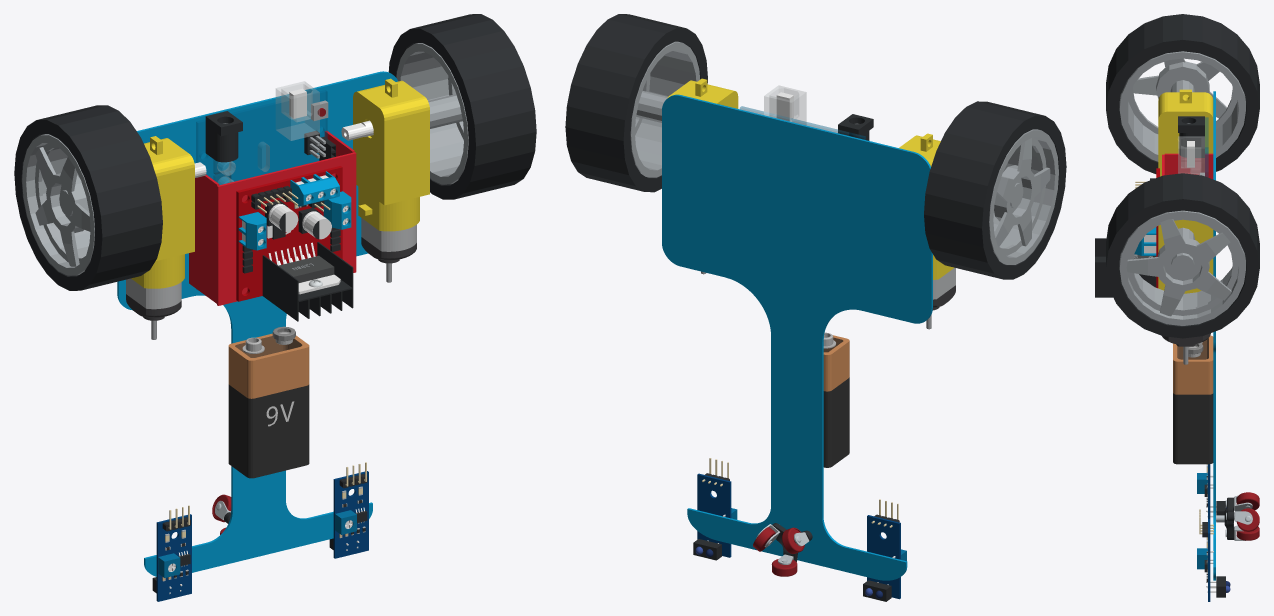
Rendered from tinker.obj.
3 renders of one model, left to right at view 1: azimuth 30°, elevation 25°; view 2: azimuth 150°, elevation 25°; view 3: azimuth 270°, elevation 25°, orthographic. The views are drawn at different scales.
Parts seen in each view (by area): view 1: obj_13, obj_0, obj_10, obj_3, obj_2, obj_1, obj_4, obj_12, obj_7, obj_8, obj_9, obj_6; view 2: obj_0, obj_13, obj_10, obj_1, obj_9, obj_8, obj_4, obj_12, obj_11, obj_2; view 3: obj_10, obj_13, obj_1, obj_12, obj_4, obj_11, obj_3, obj_2, obj_0, obj_9, obj_6, obj_8.
Boxes of the visible parts, x1,y1,x2,y2 form: obj_13: (14,105,162,290); obj_0: (117,71,398,576); obj_10: (388,14,536,199); obj_3: (236,166,353,321); obj_2: (341,78,429,282); obj_1: (228,326,309,478); obj_4: (196,81,335,289); obj_12: (126,136,206,339); obj_7: (217,152,356,305); obj_8: (152,505,191,601); obj_9: (329,462,368,558); obj_6: (189,174,219,303); obj_0: (662,94,932,580); obj_13: (924,101,1066,279); obj_10: (565,14,707,192); obj_1: (823,332,849,467); obj_9: (693,458,737,560); obj_8: (863,499,906,601); obj_4: (740,85,873,140); obj_12: (899,133,955,329); obj_11: (753,523,812,576); obj_2: (667,78,738,274); obj_10: (1106,173,1259,338); obj_13: (1106,14,1259,173); obj_1: (1173,335,1213,464); obj_12: (1158,89,1213,176); obj_4: (1178,116,1208,177); obj_11: (1216,492,1259,540); obj_3: (1095,168,1159,297); obj_2: (1158,219,1213,364); obj_0: (1213,91,1215,580); obj_9: (1197,509,1230,601); obj_6: (1164,153,1213,179); obj_8: (1197,464,1226,522).
Bounding box in the file's own units: 179 × 203 × 67.4.
